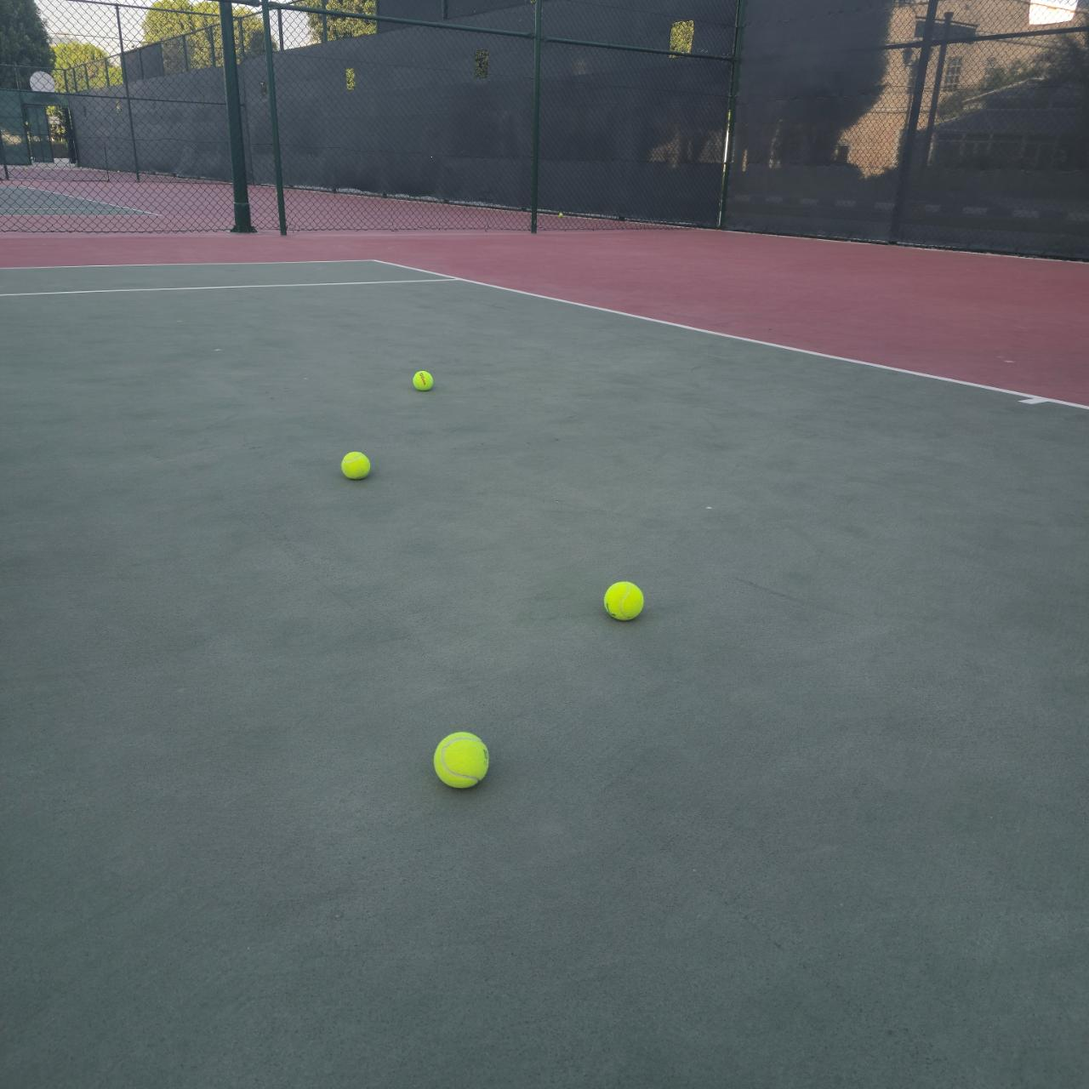tennis-ball: (431, 728, 490, 790), (602, 578, 645, 621), (339, 448, 371, 479), (412, 371, 433, 392)
